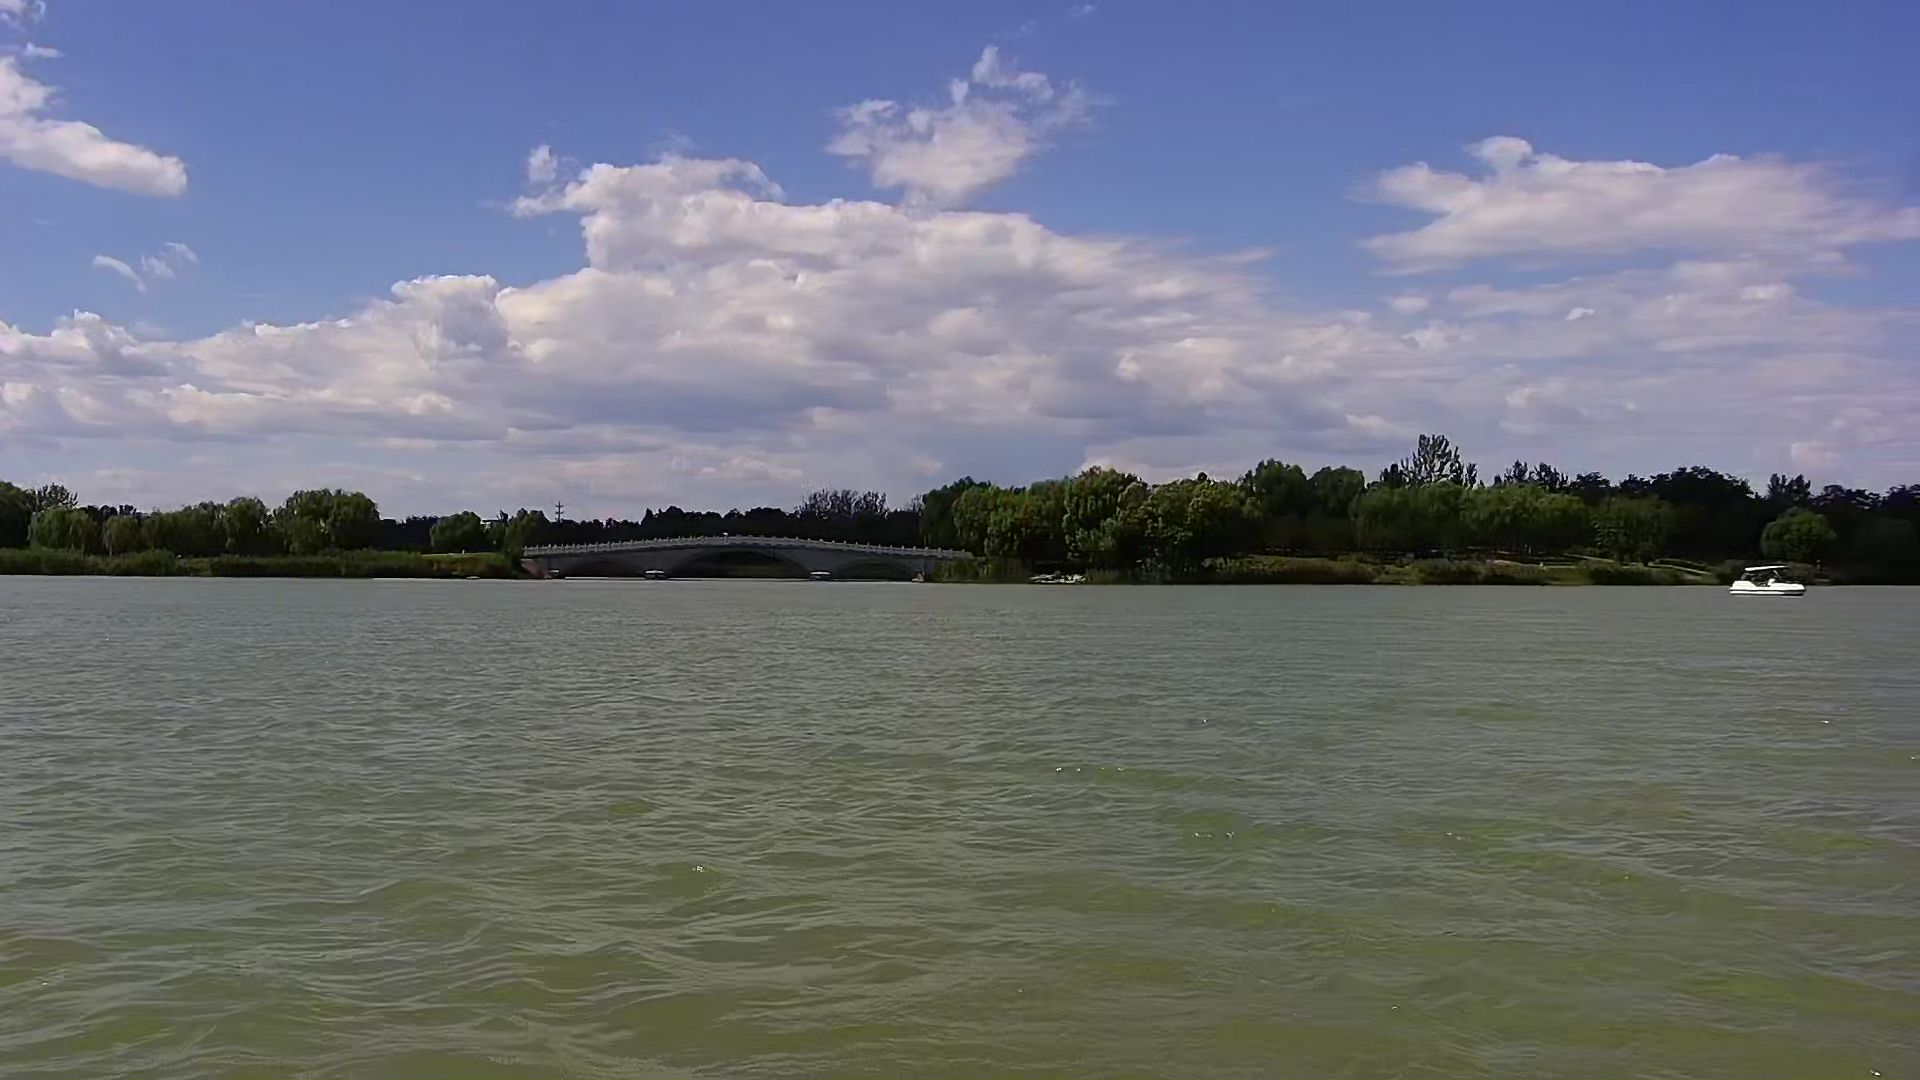boat: (1731, 558, 1809, 604)
bridge: (524, 530, 980, 585)
